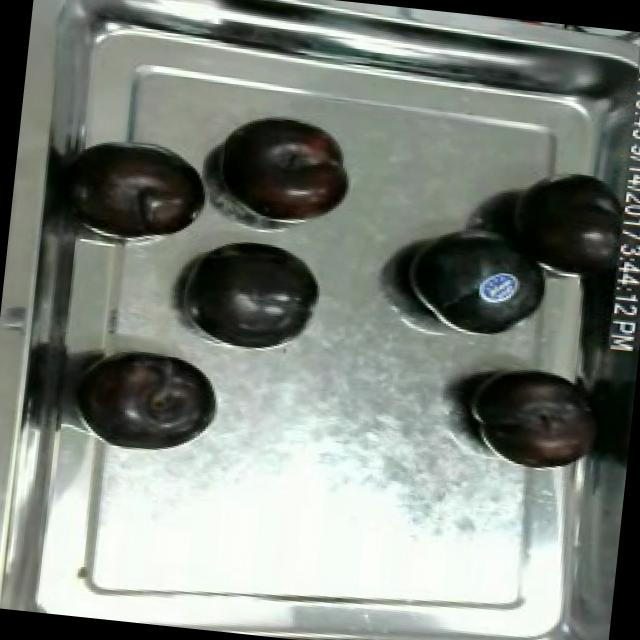Fruit: (388, 210, 562, 352), (450, 351, 612, 478), (206, 104, 361, 234), (176, 230, 330, 354), (75, 346, 224, 460), (72, 136, 214, 247)
